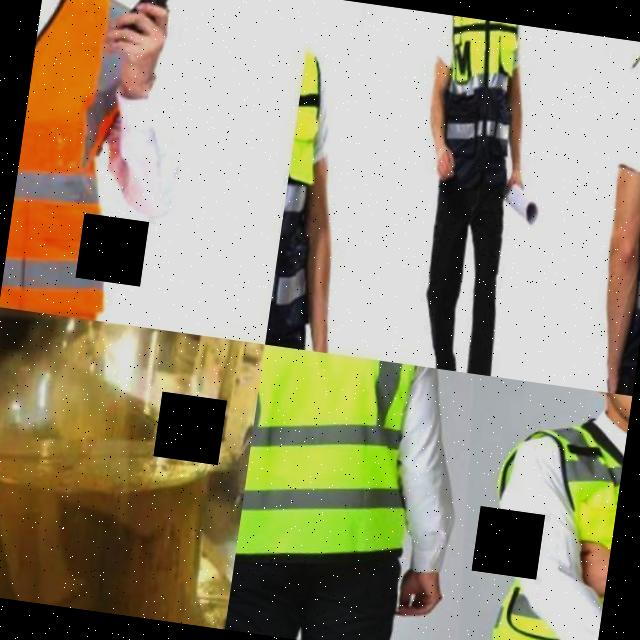vest: (0, 0, 168, 324), (236, 344, 434, 574), (266, 35, 359, 342), (495, 425, 626, 640), (426, 15, 546, 193), (582, 40, 640, 396)
